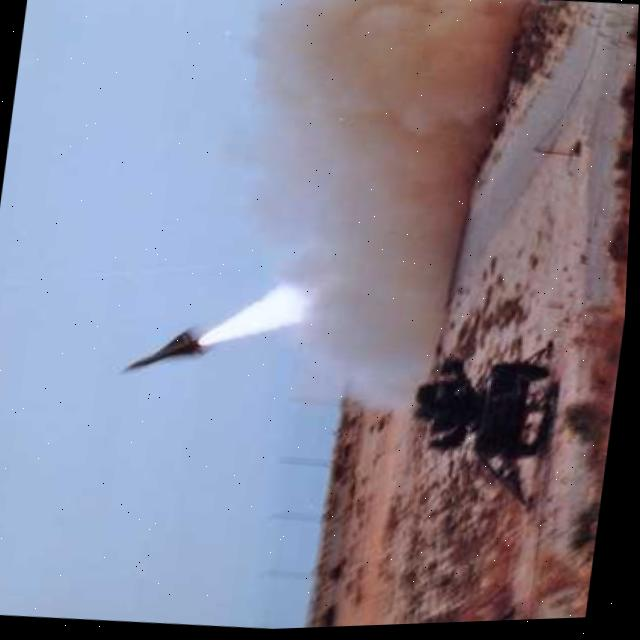missile: (118, 324, 203, 381)
